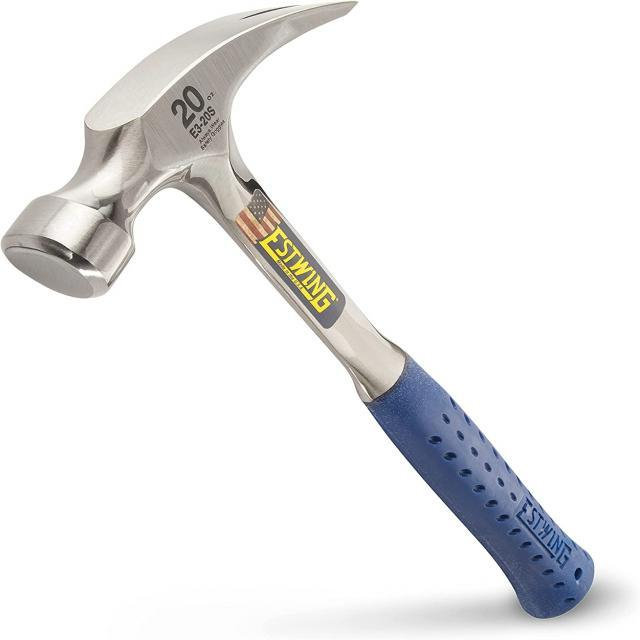hammer: (0, 0, 601, 628)
